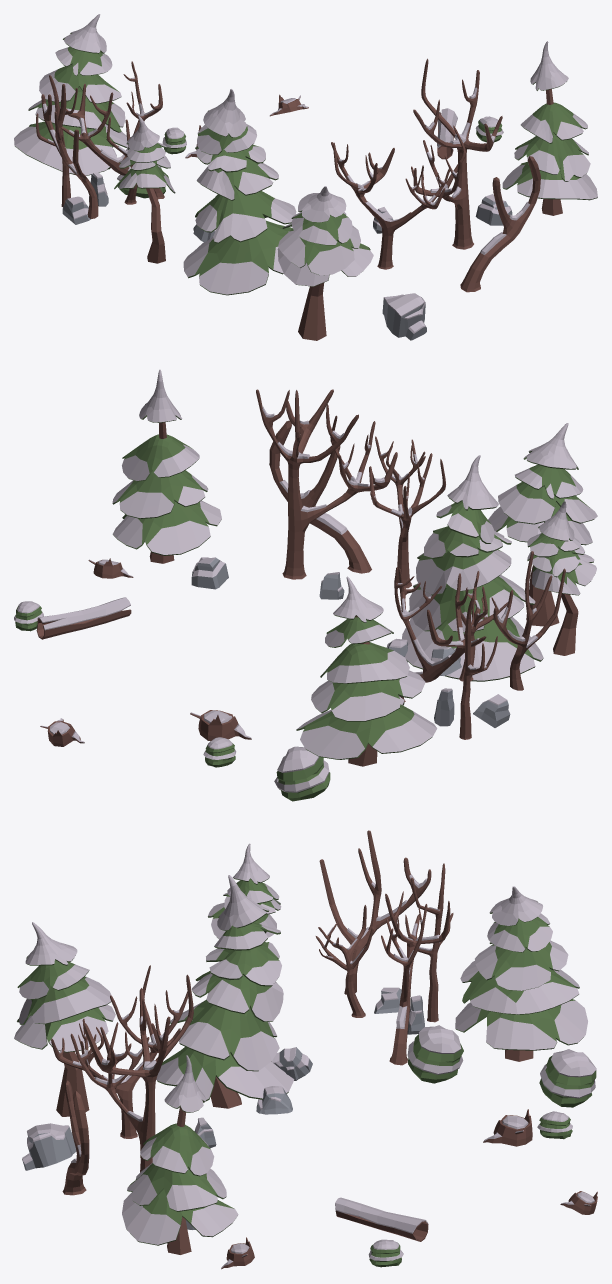
Rendered from snow.glb.
3 views of the same model, one above another, from view 1: azimuth 30°, elevation 25°; view 2: azimuth 150°, elevation 25°; view 3: azimuth 270°, elevation 25° (orthographic). The views are drawn at different scales.
Parts seen in each view (by area): view 1: PineTree_Snow_3, PineTree_Snow_1, PineTree_Snow_5, PineTree_Snow_2, CommonTree_Dead_Snow_2, PineTree_Snow_4, CommonTree_Dead_Snow_1, Willow_Dead_Snow_3, Willow_Dead_Snow_2, Rock_Snow_6, Willow_Dead_Snow_1, CommonTree_Dead_Snow_3 (+6 smaller); view 2: PineTree_Snow_3, PineTree_Snow_1, PineTree_Snow_2, PineTree_Snow_5, CommonTree_Dead_Snow_2, PineTree_Snow_4, Willow_Dead_Snow_3, CommonTree_Dead_Snow_1, Willow_Dead_Snow_2, Bush_Snow_2, Willow_Dead_Snow_1, WoodLog_Snow (+11 smaller); view 3: PineTree_Snow_3, PineTree_Snow_1, PineTree_Snow_2, PineTree_Snow_5, CommonTree_Dead_Snow_2, Willow_Dead_Snow_2, CommonTree_Dead_Snow_1, Bush_Snow_2, Willow_Dead_Snow_1, Bush_Snow_2.001, PineTree_Snow_4, WoodLog_Snow (+12 smaller).
Part boxes in pixels (x1,y1,x2,y2): PineTree_Snow_3: (183,89,296,295); PineTree_Snow_1: (14,14,127,175); PineTree_Snow_5: (277,186,373,340); PineTree_Snow_2: (502,41,597,215); CommonTree_Dead_Snow_2: (411,58,502,249); PineTree_Snow_4: (114,116,175,263); CommonTree_Dead_Snow_1: (331,142,450,269); Willow_Dead_Snow_3: (460,156,540,292); Willow_Dead_Snow_2: (61,61,164,199); Rock_Snow_6: (382,293,426,340); Willow_Dead_Snow_1: (41,84,98,218); CommonTree_Dead_Snow_3: (36,75,77,206); PineTree_Snow_3: (402,455,543,681); PineTree_Snow_1: (296,576,437,766); PineTree_Snow_2: (112,369,221,563); PineTree_Snow_5: (488,423,597,626); CommonTree_Dead_Snow_2: (256,389,397,579); PineTree_Snow_4: (527,501,596,655); Willow_Dead_Snow_3: (269,420,371,573); CommonTree_Dead_Snow_1: (369,436,445,588); Willow_Dead_Snow_2: (394,567,486,702); Bush_Snow_2: (274,746,330,801); Willow_Dead_Snow_1: (493,551,565,690); WoodLog_Snow: (36,597,131,639); PineTree_Snow_3: (156,875,294,1108); PineTree_Snow_1: (455,886,587,1061); PineTree_Snow_2: (122,1055,238,1254); PineTree_Snow_5: (14,922,115,1116); CommonTree_Dead_Snow_2: (70,974,193,1172); Willow_Dead_Snow_2: (381,891,453,1065); CommonTree_Dead_Snow_1: (51,965,188,1138); Bush_Snow_2: (539,1049,596,1107); Willow_Dead_Snow_1: (319,830,431,994); Bush_Snow_2.001: (407,1025,463,1083); PineTree_Snow_4: (208,843,281,939); WoodLog_Snow: (335,1197,428,1241).
Size of the model in its own units: 28.03 by 12.32 by 27.04.
